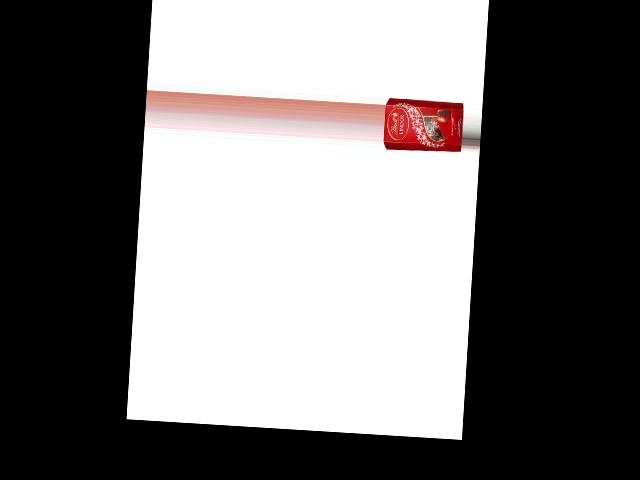chocolate: (383, 94, 465, 155)
